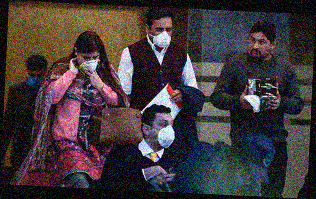with_mask: (149, 117, 176, 148), (147, 23, 173, 47), (76, 53, 101, 73), (26, 71, 45, 89)
without_mask: (247, 35, 272, 59)
